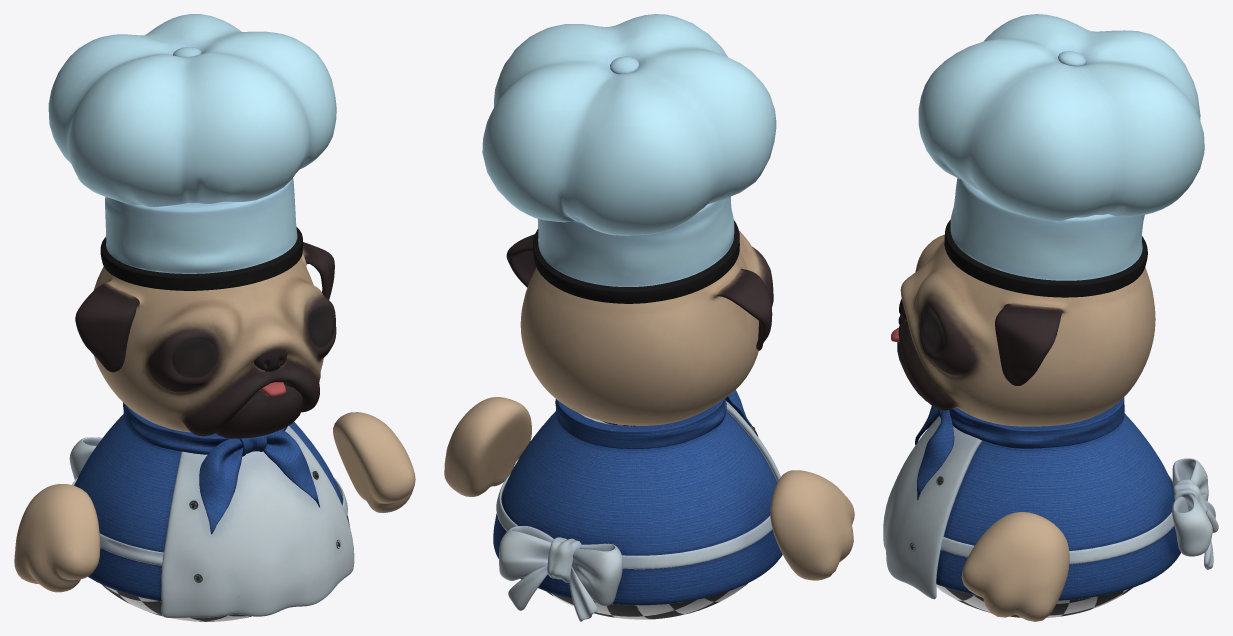
The model's file is overcooked_-_pug_character.glb.
The picture shows the model from 3 angles, left to right: view 1: azimuth 30°, elevation 25°; view 2: azimuth 150°, elevation 25°; view 3: azimuth 270°, elevation 25°; orthographic projection. The views are drawn at different scales.
Visible parts, largest first — view 1: hat, head, clothes, body, rightHand, leftHand, eye, Object_6; view 2: hat, body, head, rightHand, leftHand, clothes, Object_6; view 3: hat, head, body, clothes, leftHand, Object_6, eye.
Part boxes in pixels (<box>): hat: <box>48,14,336,290</box>; head: <box>75,242,336,438</box>; clothes: <box>71,425,354,618</box>; body: <box>69,402,349,614</box>; rightHand: <box>14,484,100,592</box>; leftHand: <box>333,412,415,512</box>; eye: <box>172,308,334,377</box>; Object_6: <box>101,584,251,621</box>; hat: <box>482,14,776,303</box>; body: <box>493,398,782,621</box>; head: <box>506,230,773,425</box>; rightHand: <box>770,470,854,580</box>; leftHand: <box>444,397,531,496</box>; clothes: <box>496,390,780,587</box>; Object_6: <box>546,583,747,619</box>; hat: <box>918,14,1204,297</box>; head: <box>891,234,1155,426</box>; body: <box>936,397,1218,600</box>; clothes: <box>883,406,1197,599</box>; leftHand: <box>961,512,1069,621</box>; Object_6: <box>936,584,1132,617</box>; eye: <box>921,310,944,352</box>.
Size of the model in its own units: 2.54 by 3.52 by 1.92.
6 materials, 6 textured.
